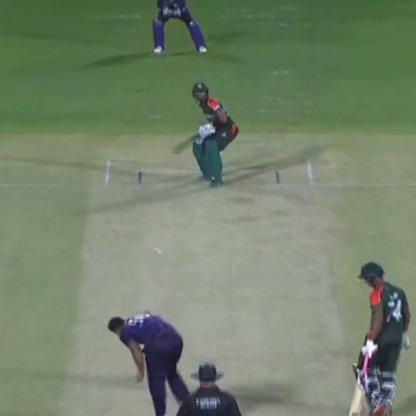ball: (150, 246, 170, 260)
bat: (168, 122, 212, 150)
pitch: (58, 152, 374, 416)
